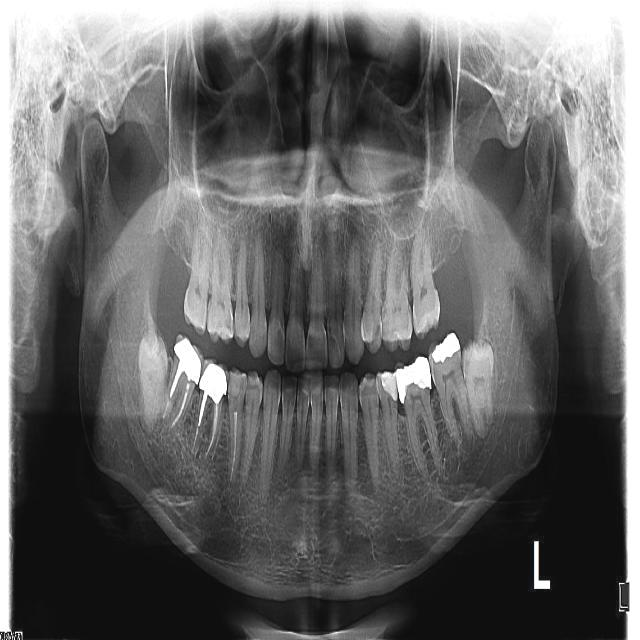Caries: (215, 304, 233, 332)
Crown: (174, 334, 203, 385), (199, 358, 228, 403)
Filling: (396, 356, 431, 404), (431, 333, 461, 363), (380, 372, 398, 403), (228, 372, 242, 398)
Root Canal Treatment: (171, 377, 191, 427), (205, 403, 219, 456), (230, 413, 238, 483), (190, 428, 199, 453), (163, 400, 171, 421)
impacted tooth: (463, 337, 495, 440), (139, 330, 168, 431)
